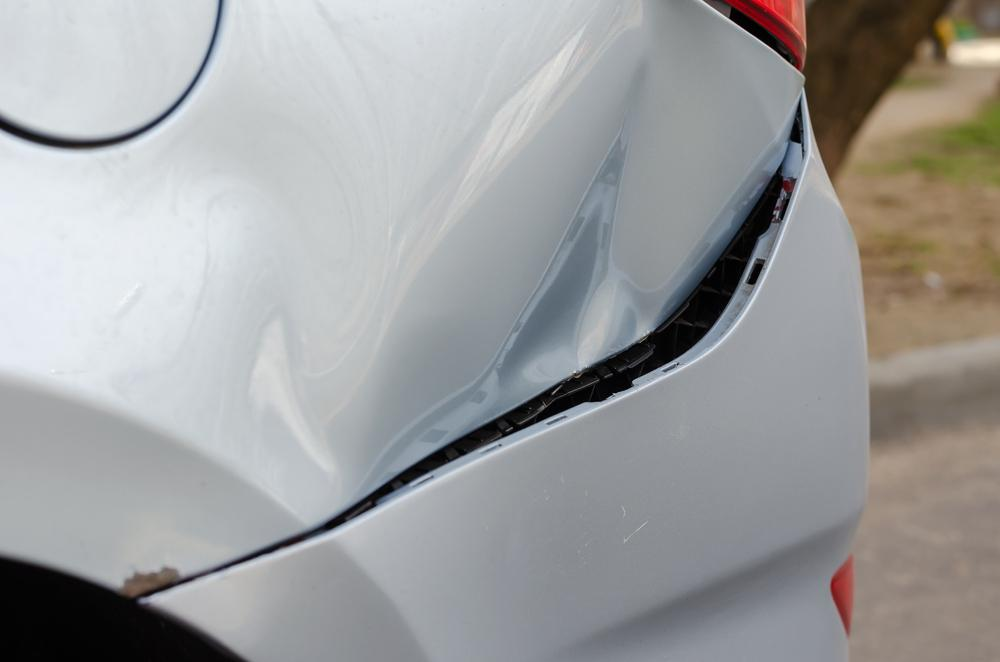dent: (120, 5, 759, 512)
